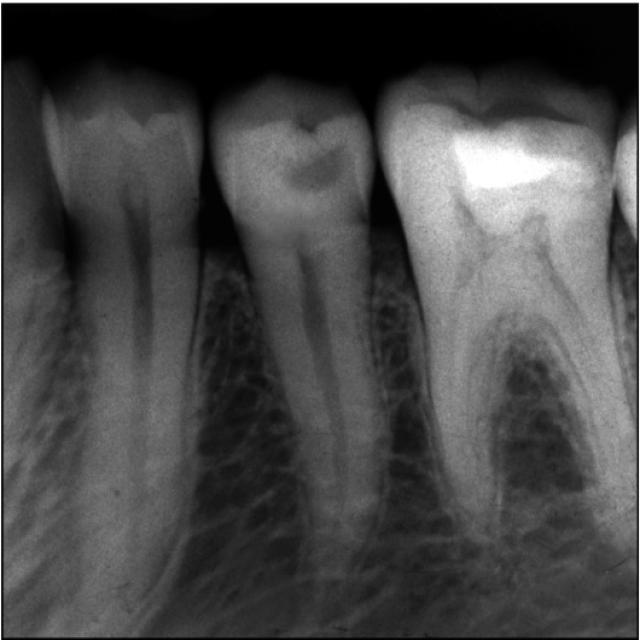Caries: (212, 76, 381, 607)
